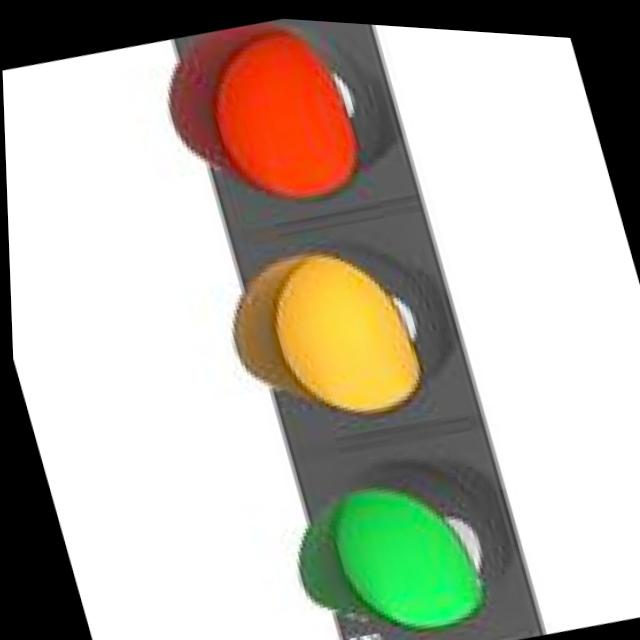green_light: (230, 404, 590, 640)
red_light: (116, 6, 442, 261)
yellow_light: (172, 153, 522, 511)
